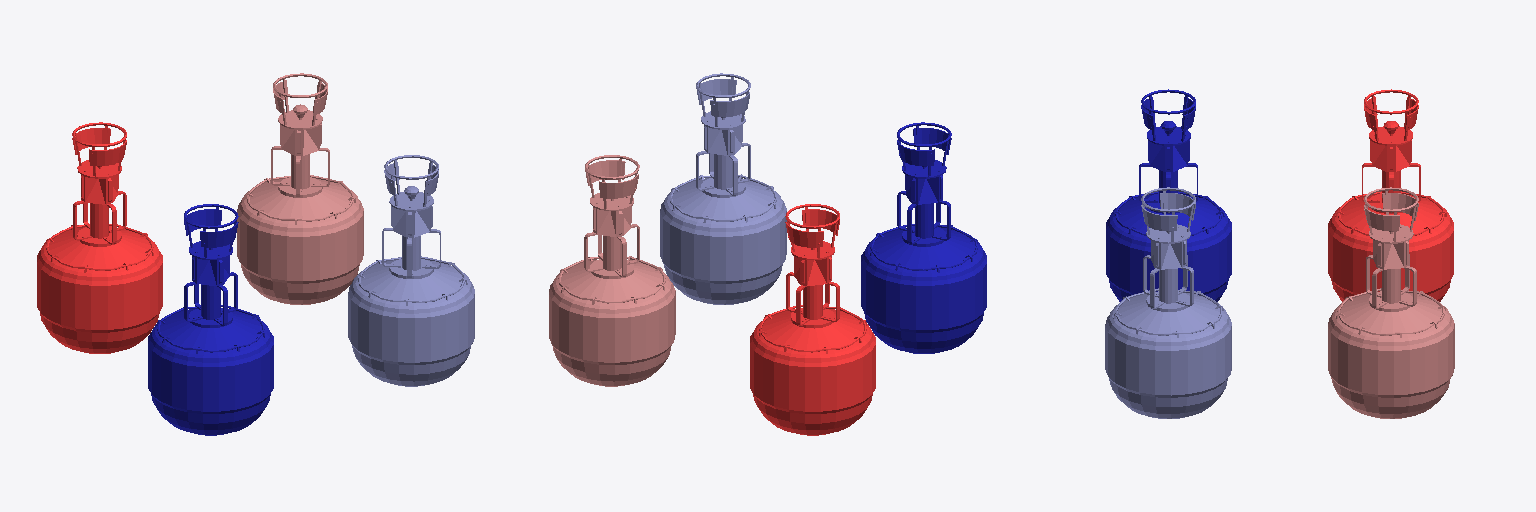
The picture shows the model from 3 angles: view 1: azimuth 30°, elevation 25°; view 2: azimuth 150°, elevation 25°; view 3: azimuth 270°, elevation 25°; orthographic projection.
Parts seen in each view (by area): view 1: OB_003_LOW, OB_003_LOW003, OB_003_LOW002, OB_003_LOW001; view 2: OB_003_LOW002, OB_003_LOW001, OB_003_LOW003, OB_003_LOW; view 3: OB_003_LOW002, OB_003_LOW001, OB_003_LOW, OB_003_LOW003.
Part boxes in pixels (bbox=[...]): OB_003_LOW: bbox=[148, 204, 273, 435]; OB_003_LOW003: bbox=[37, 122, 162, 353]; OB_003_LOW002: bbox=[237, 73, 363, 304]; OB_003_LOW001: bbox=[348, 155, 474, 386]; OB_003_LOW002: bbox=[549, 155, 675, 386]; OB_003_LOW001: bbox=[660, 73, 786, 304]; OB_003_LOW003: bbox=[750, 204, 875, 435]; OB_003_LOW: bbox=[861, 122, 986, 353]; OB_003_LOW002: bbox=[1328, 187, 1454, 418]; OB_003_LOW001: bbox=[1105, 187, 1231, 418]; OB_003_LOW: bbox=[1106, 89, 1231, 301]; OB_003_LOW003: bbox=[1328, 89, 1453, 301].
Bounding box in the file's own units: 135 × 88.73 × 132.